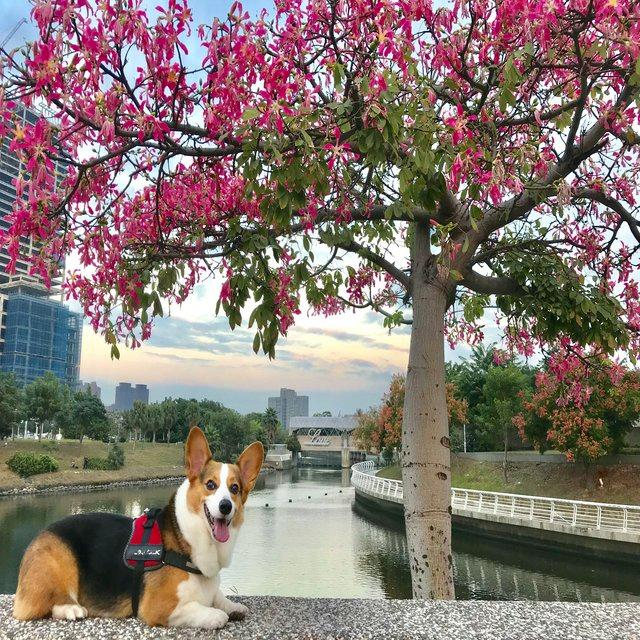corgi: (11, 425, 264, 630)
